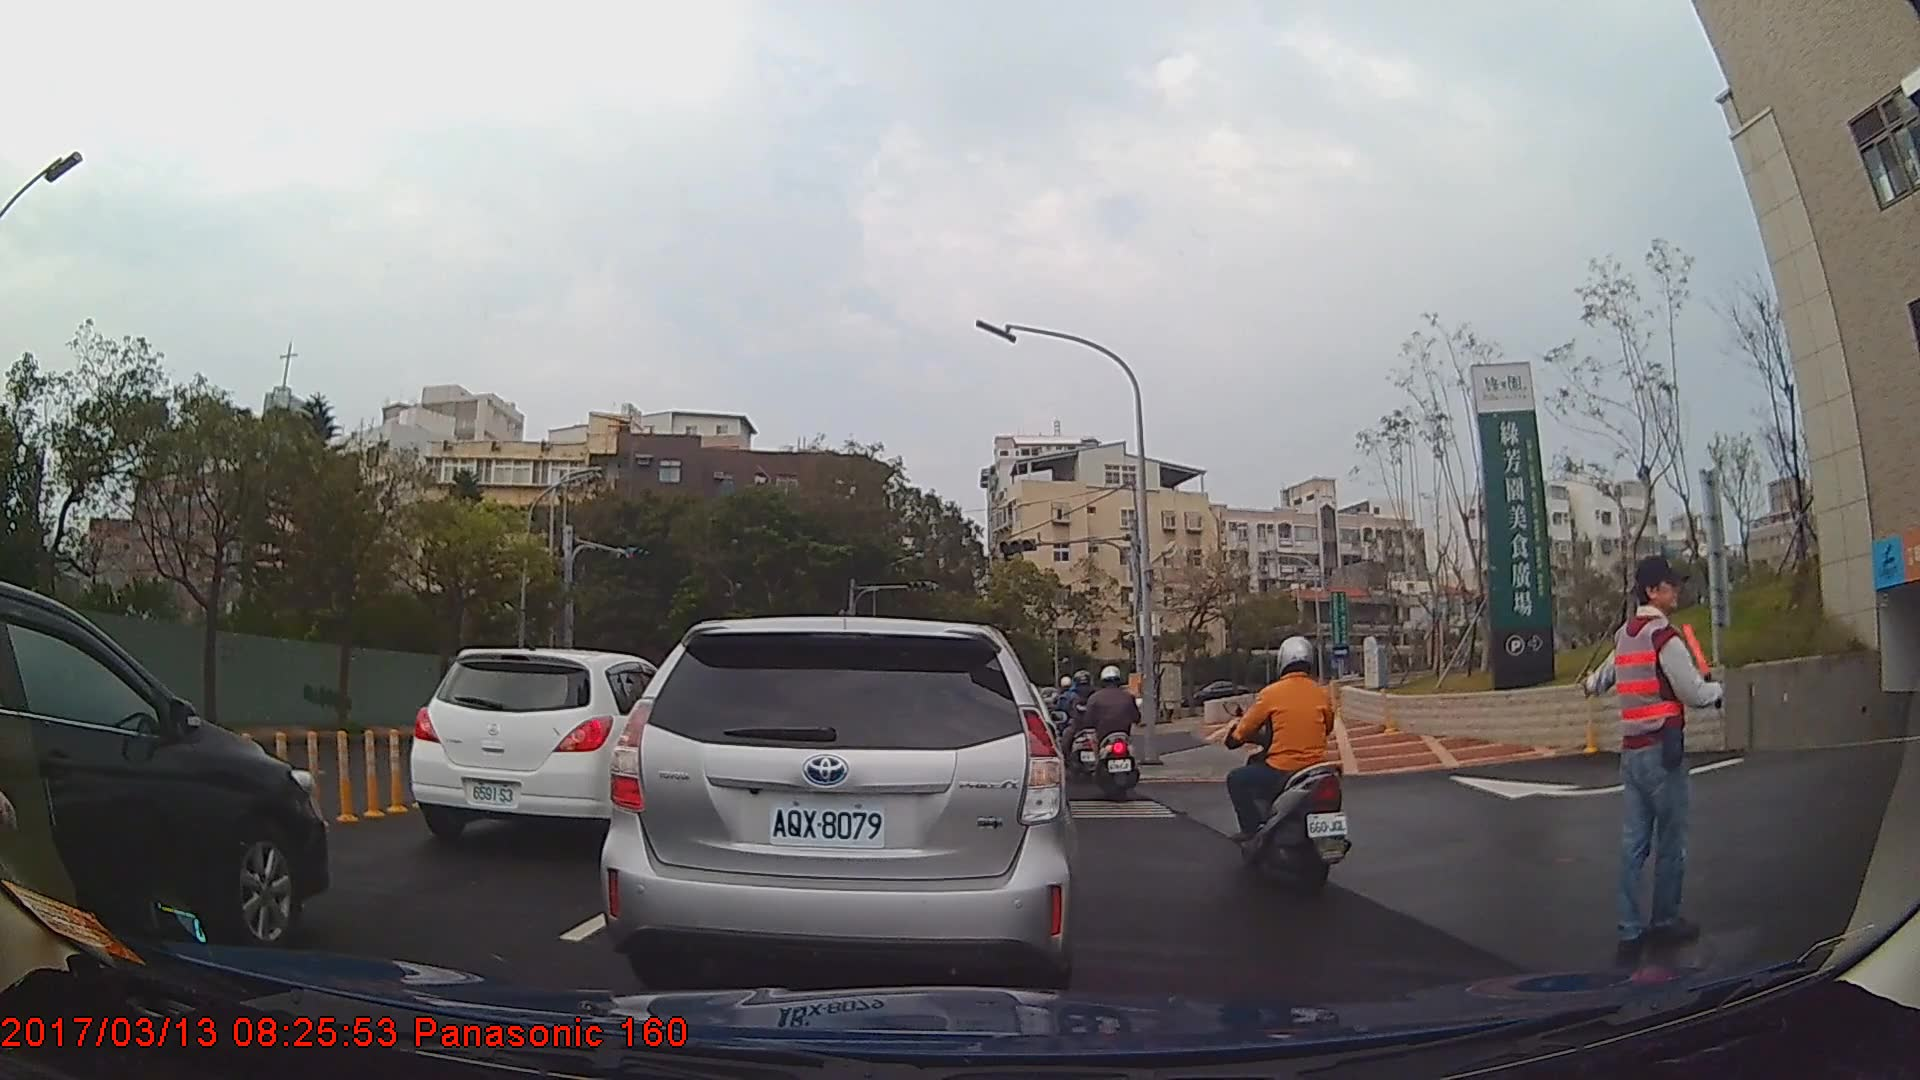pedestrian: (1585, 556, 1728, 961)
rider: (1224, 631, 1356, 889), (1082, 659, 1143, 810), (1065, 669, 1104, 778)
vehicle: (598, 617, 1073, 984), (0, 577, 330, 954), (411, 647, 720, 845), (1182, 677, 1250, 710)
